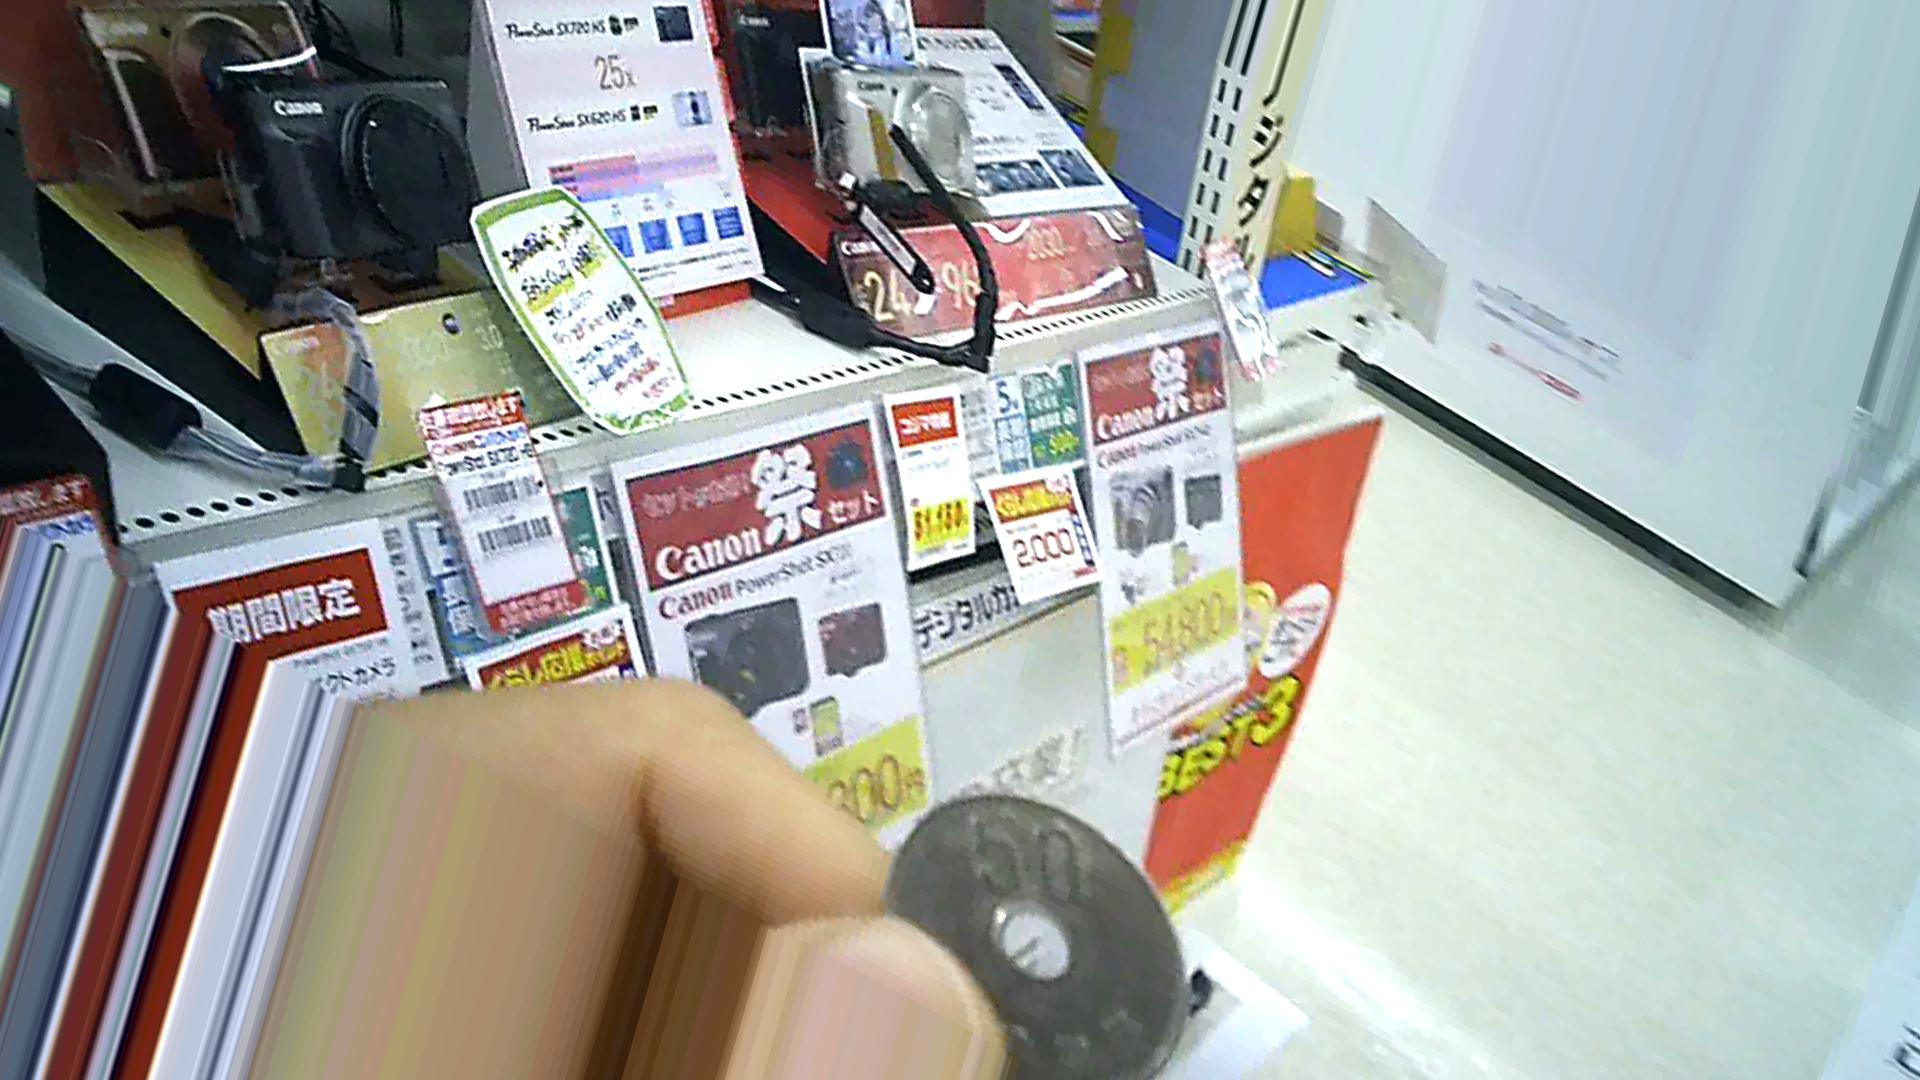50 Yen: (862, 787, 1201, 1073)
